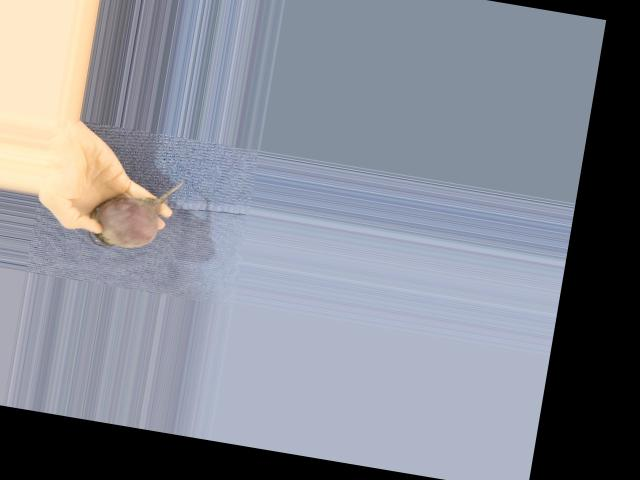beet: (86, 166, 184, 258)
